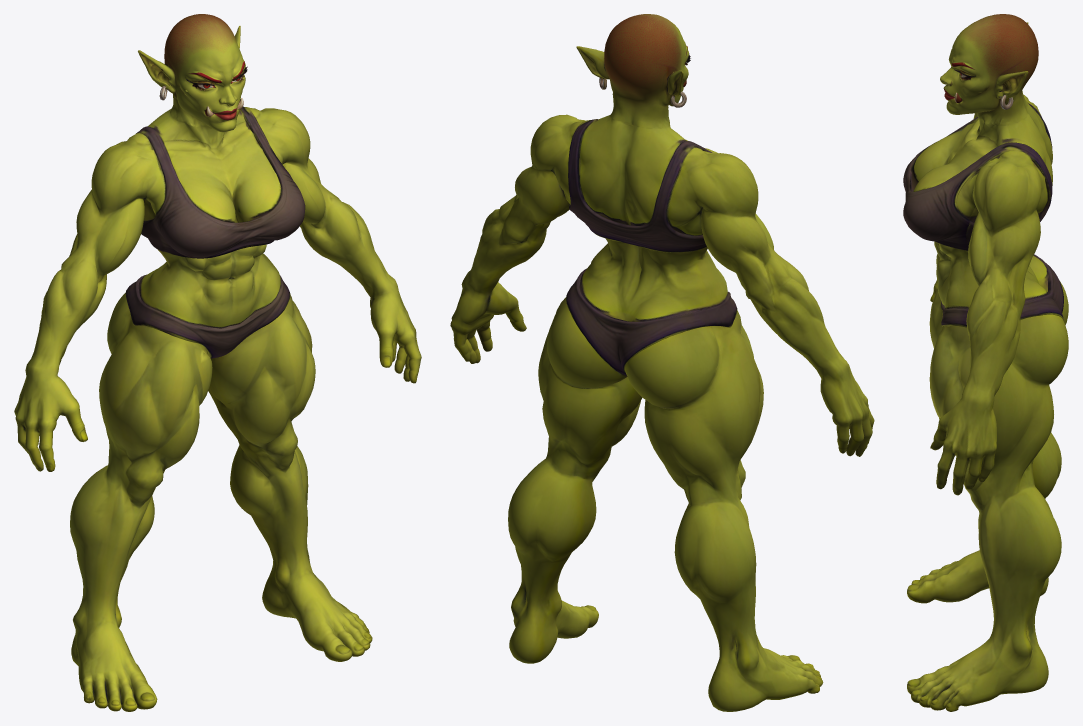
The model's file is orc-base-v1.glb.
The picture shows the model from 3 angles, left to right: view 1: azimuth 30°, elevation 25°; view 2: azimuth 150°, elevation 25°; view 3: azimuth 270°, elevation 25°; orthographic projection. The views are drawn at different scales.
Parts seen in each view (by area): view 1: Orc_Base; view 2: Orc_Base; view 3: Orc_Base.
Part boxes in pixels (<box>): Orc_Base: <box>14,14,421,711</box>; Orc_Base: <box>450,14,874,711</box>; Orc_Base: <box>903,14,1068,711</box>.
Size of the model in its own units: 1.36 by 2.1 by 0.4996.
2 materials, 2 textured.
